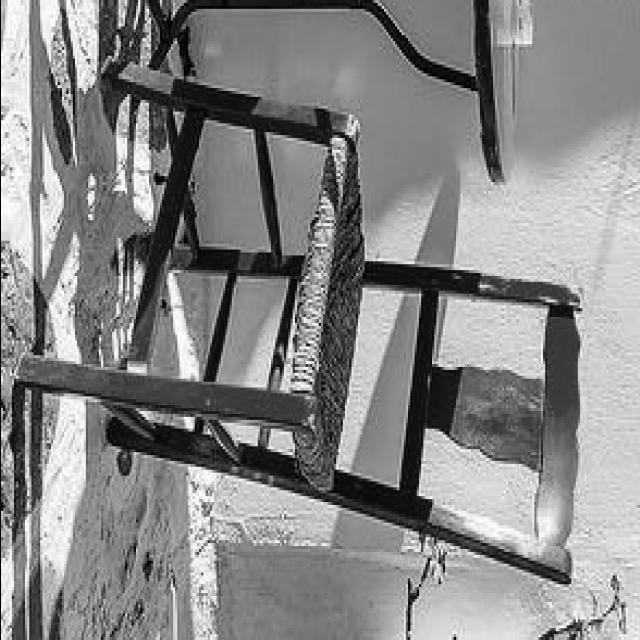chair: (14, 58, 582, 588)
